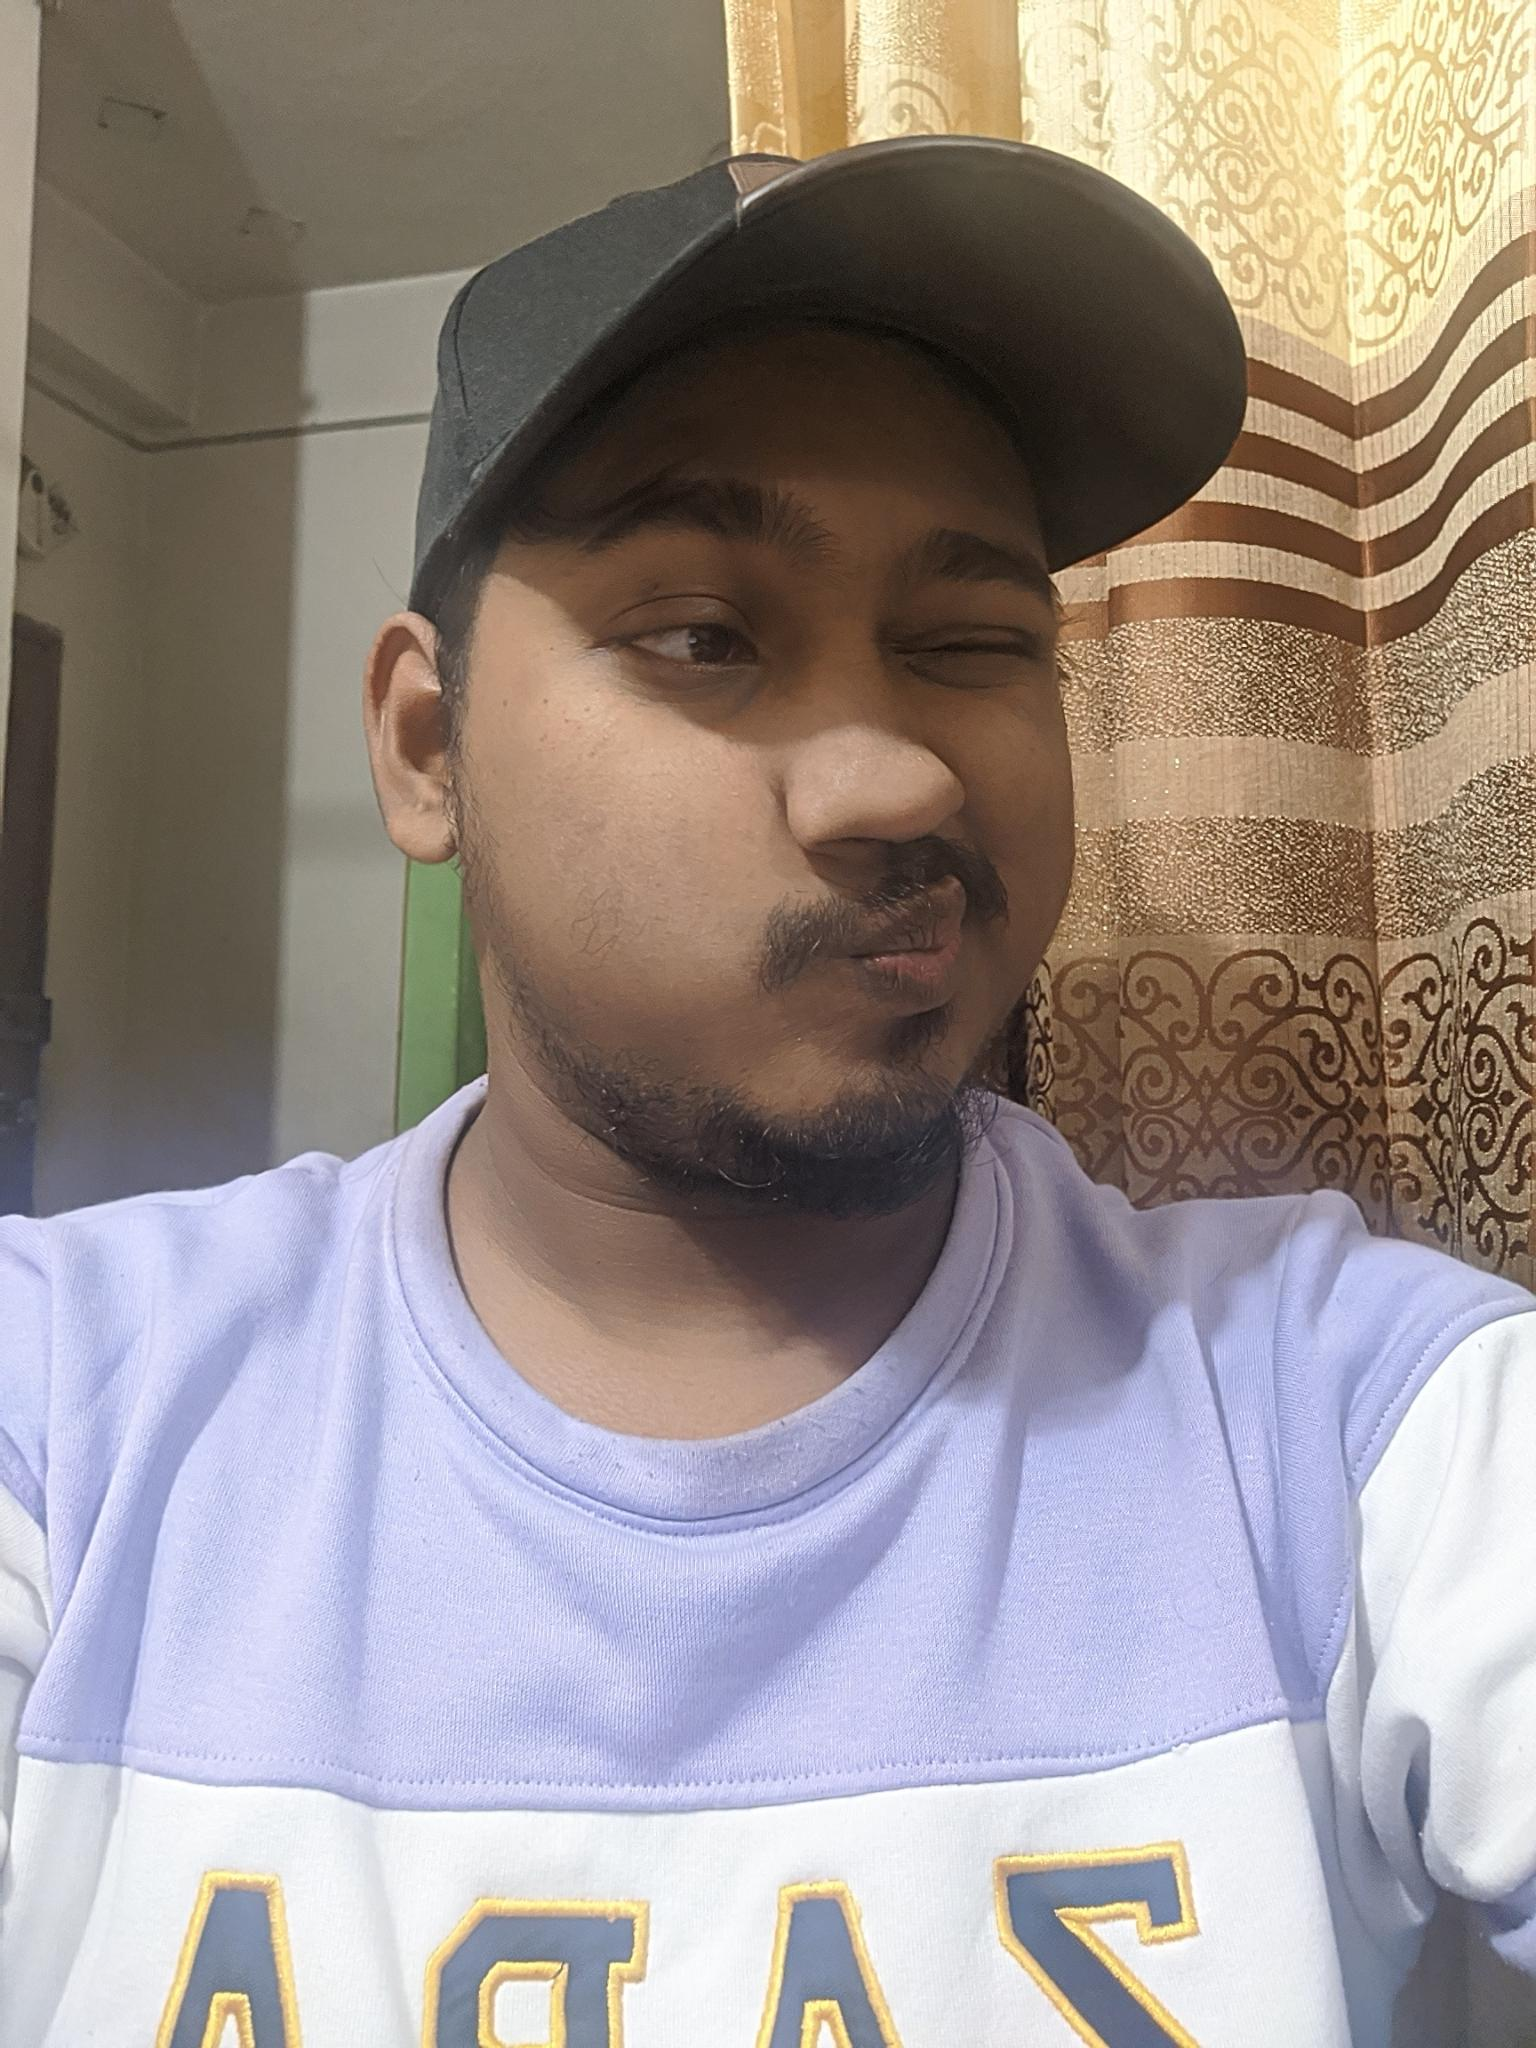Disgust: (544, 414, 1108, 1205)
